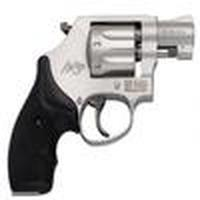gun: (5, 14, 200, 196)
